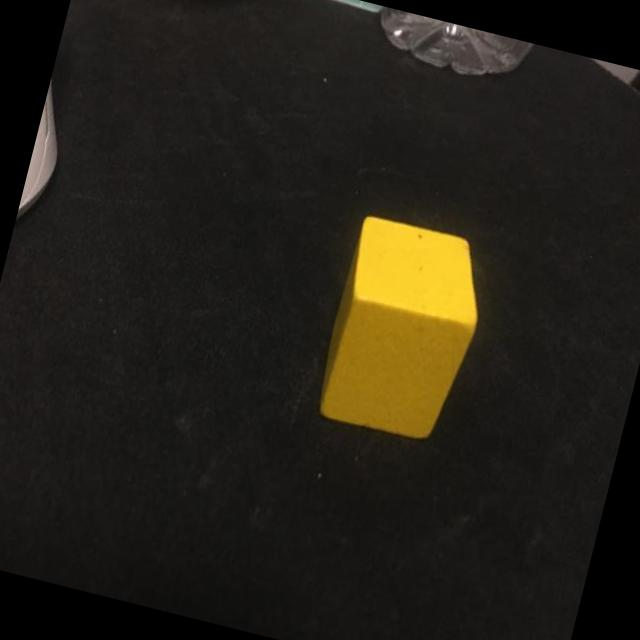yellow: (312, 213, 496, 445)
